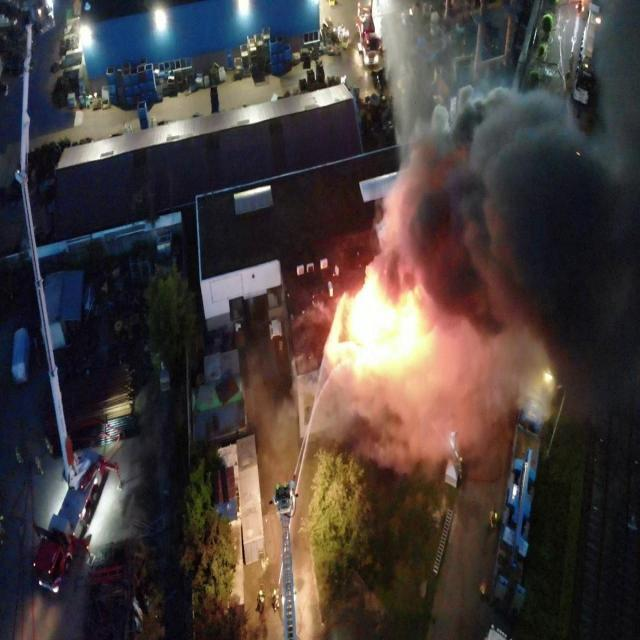Fire: (332, 276, 421, 369)
Smoke: (289, 0, 640, 485)
